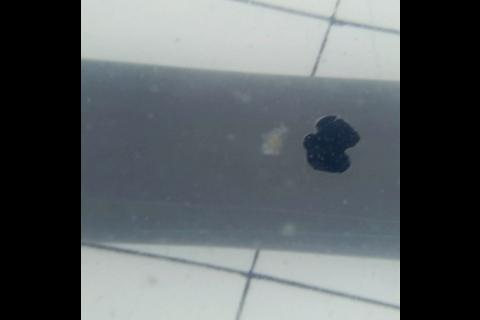kebocoran: (299, 114, 361, 176)
